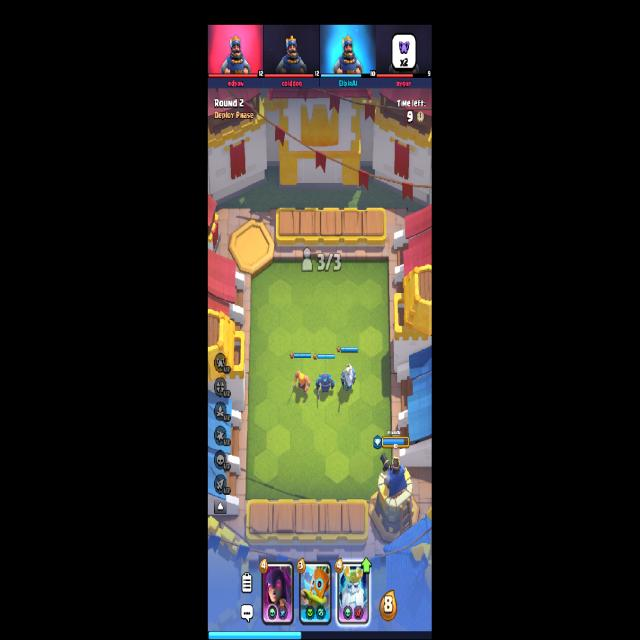barbarian: (288, 369, 310, 405)
card_dart_goblin: (298, 560, 332, 625)
card_royal_ghost: (336, 562, 368, 625)
card_witch: (260, 561, 294, 626)
mini_pekka: (314, 372, 336, 406)
royal_ghost: (342, 364, 356, 393)
